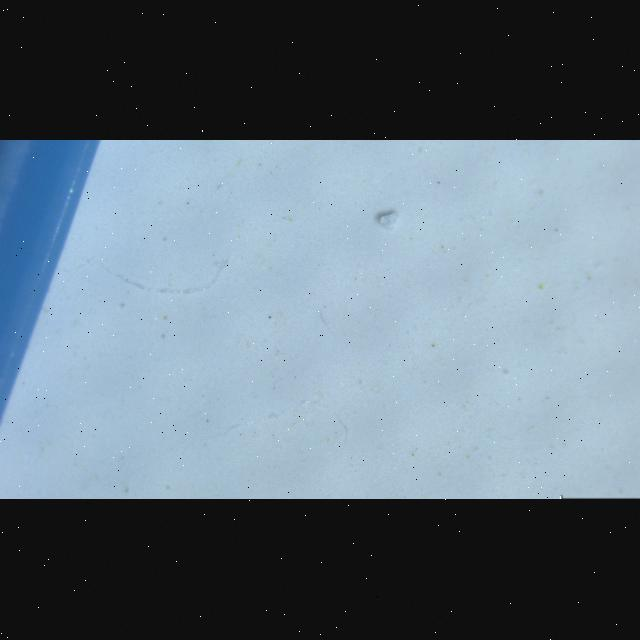Fibre: (102, 257, 230, 294)
Fragment: (379, 213, 398, 230)
